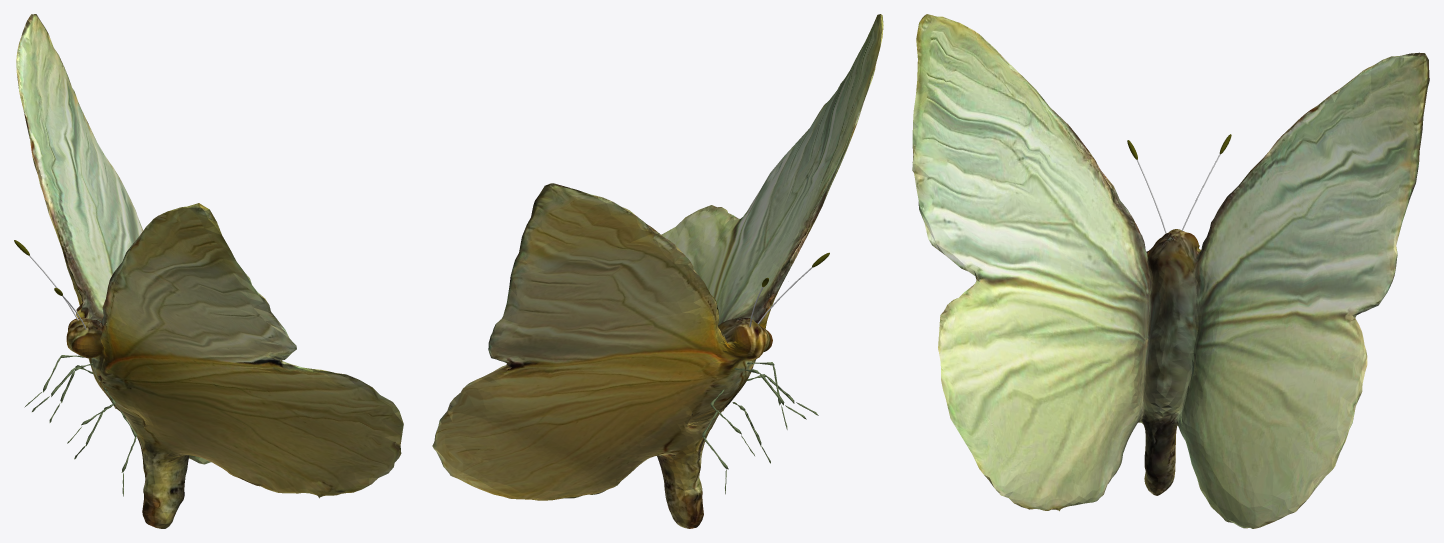
File: florida_white.obj
The picture shows the model from 3 angles, left to right: view 1: azimuth 30°, elevation 25°; view 2: azimuth 150°, elevation 25°; view 3: azimuth 270°, elevation 25°; orthographic projection. The views are drawn at different scales.
Parts seen in each view (by area): view 1: mmGroup0; view 2: mmGroup0; view 3: mmGroup0.
Boxes of the visible parts, x1,y1,x2,y2 form: mmGroup0: [16, 14, 403, 528]; mmGroup0: [432, 14, 883, 528]; mmGroup0: [912, 14, 1429, 528].
Size of the model in its own units: 7.07 by 10.08 by 10.68.
5 materials, 2 textured.
